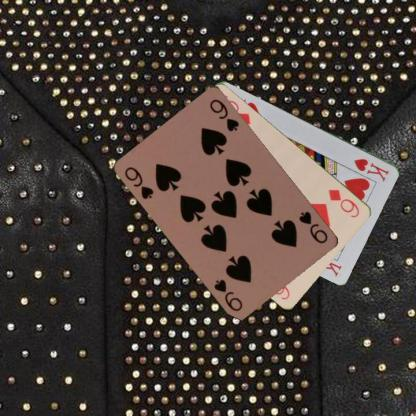6d: (326, 186, 361, 219)
9s: (296, 209, 330, 245), (122, 164, 155, 201)
Kh: (351, 156, 391, 183)
